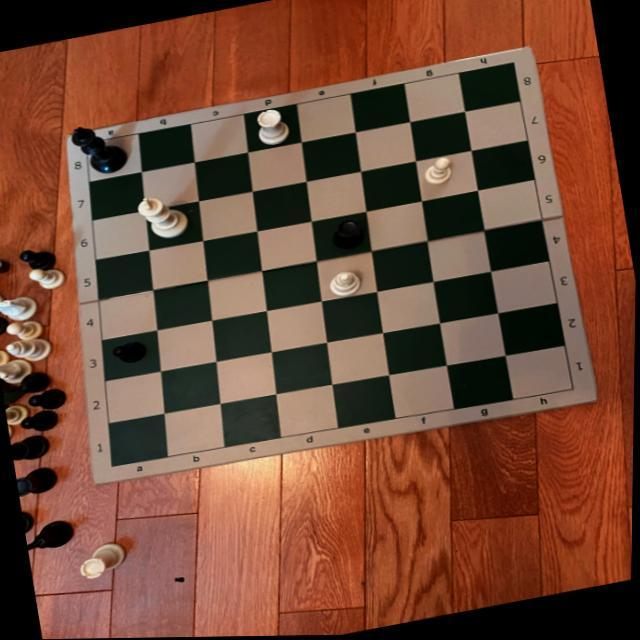chess-table-corners: (505, 58, 520, 70), (106, 462, 122, 472), (569, 386, 580, 396)
